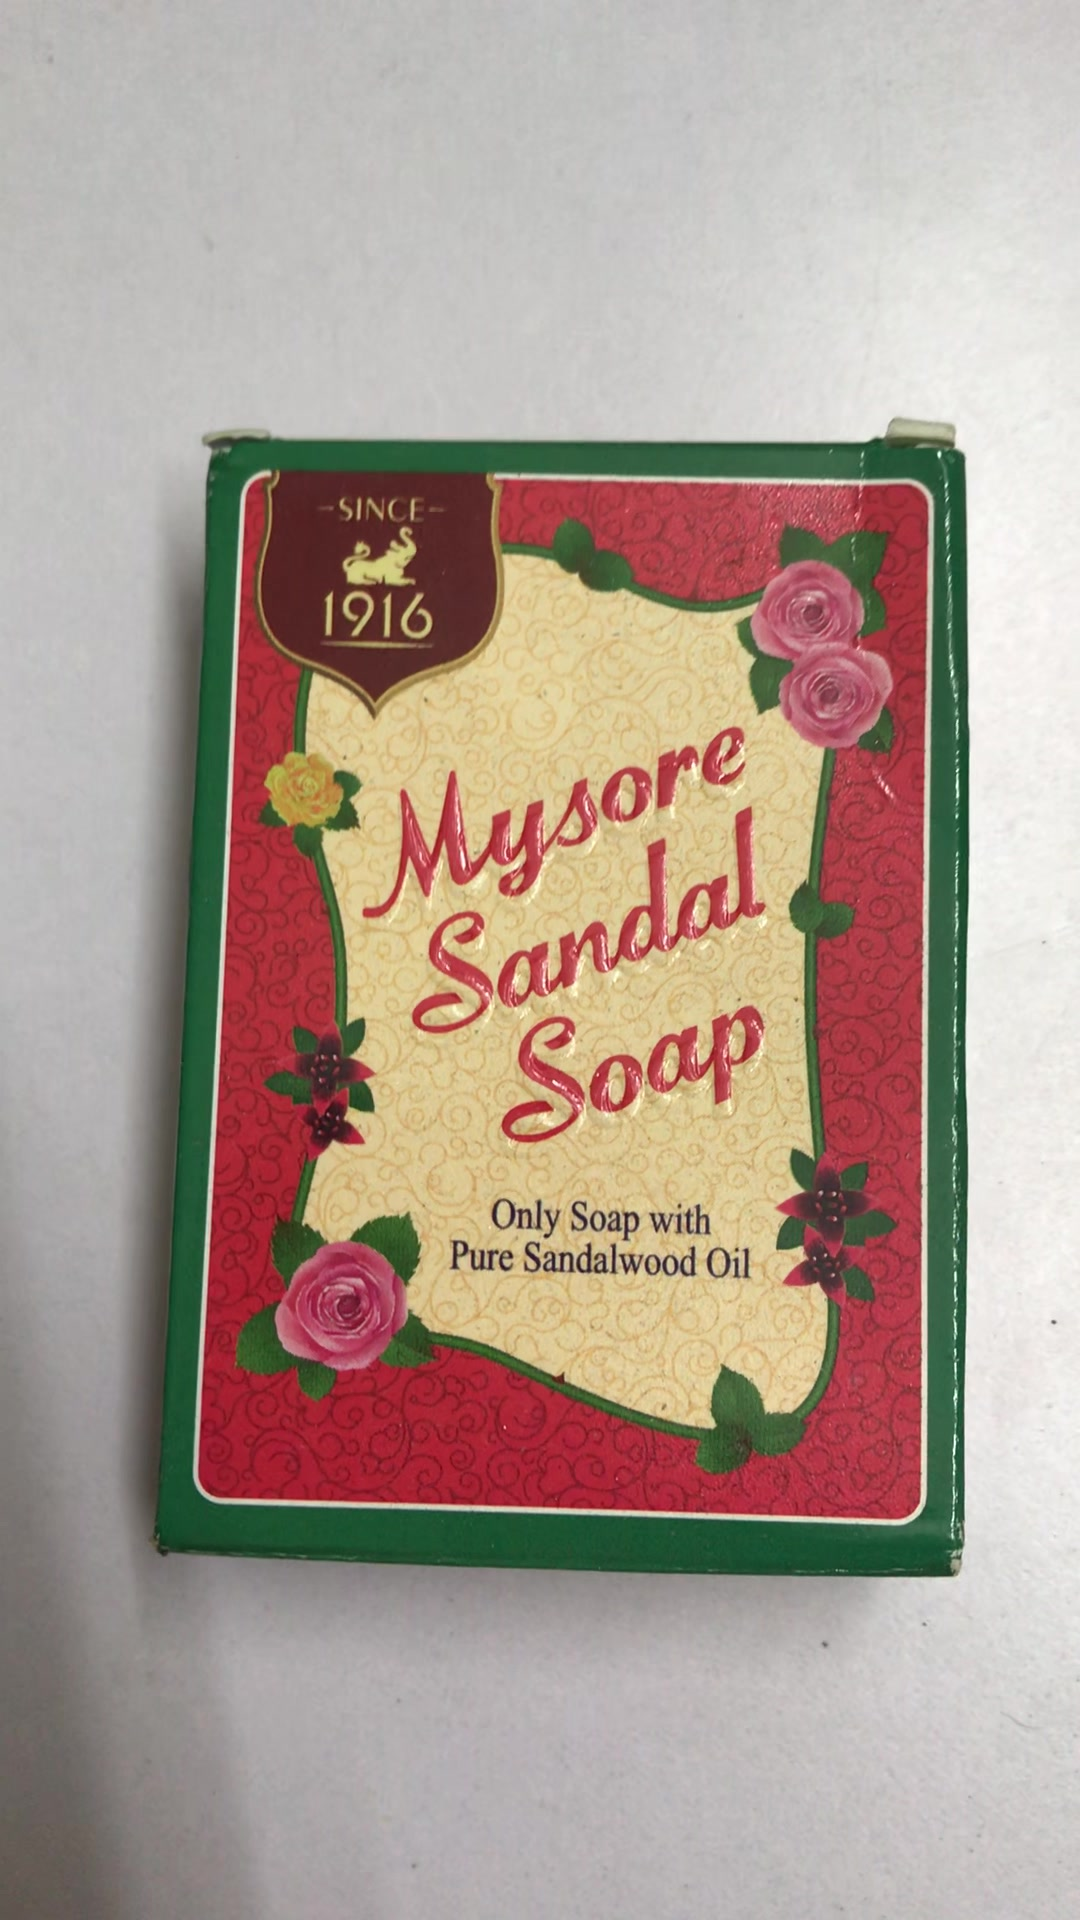mysore sandal soap: (157, 433, 971, 1569)
